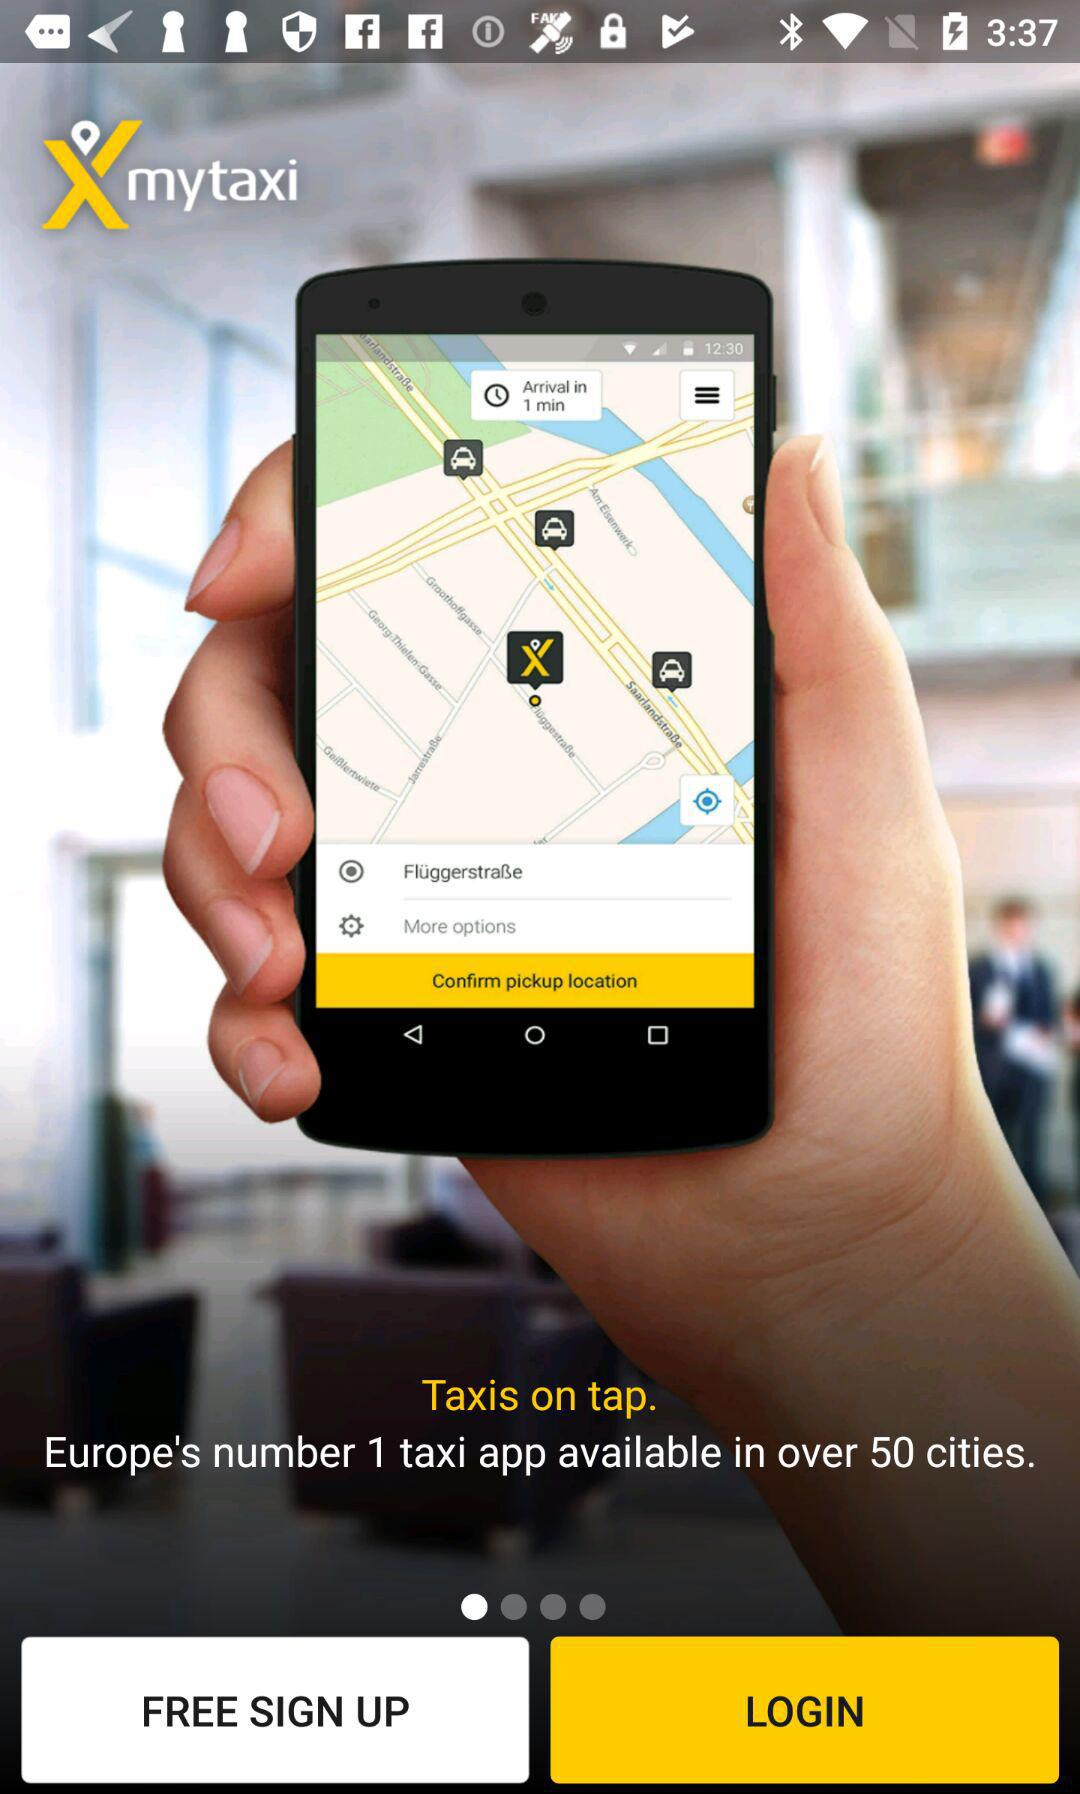BackgroundImage: (1, 64, 1080, 1794)
Image: (38, 120, 299, 232)
PageIndicator: (460, 1592, 609, 1622)
Text: (46, 1433, 1035, 1477), (421, 1378, 656, 1421)
TextButton: (550, 1636, 1060, 1785), (20, 1636, 530, 1784)
UpperTaskBar: (1, 1, 1080, 64)
